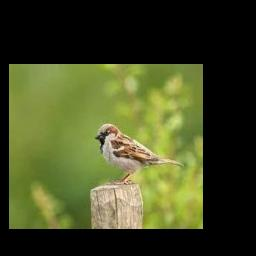Sparrow: (95, 123, 183, 184)
